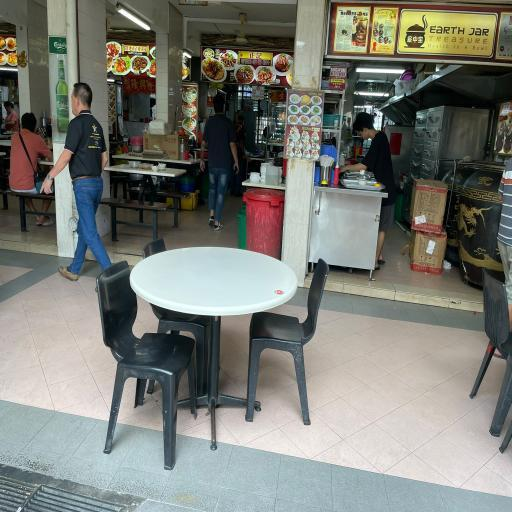person_left: (39, 77, 112, 279)
